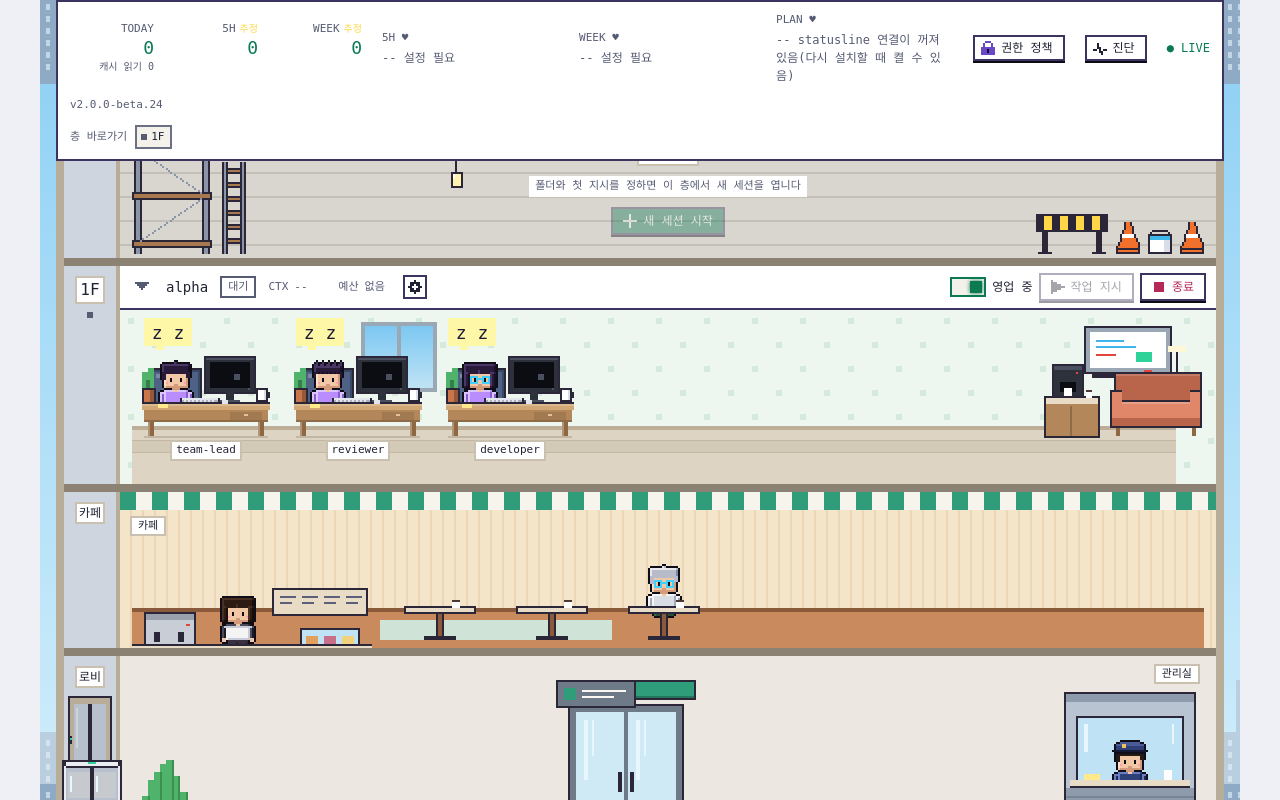
Test case: 에이전트 패널 열기 › 결정이 없는 캐릭터를 누르면 에이전트 패널이 열린다
This screenshot has width=1280, height=800.
(page scrolled)
Click the button with test id "desk-reviewer" at point(358, 401), box [292,318,424,484]
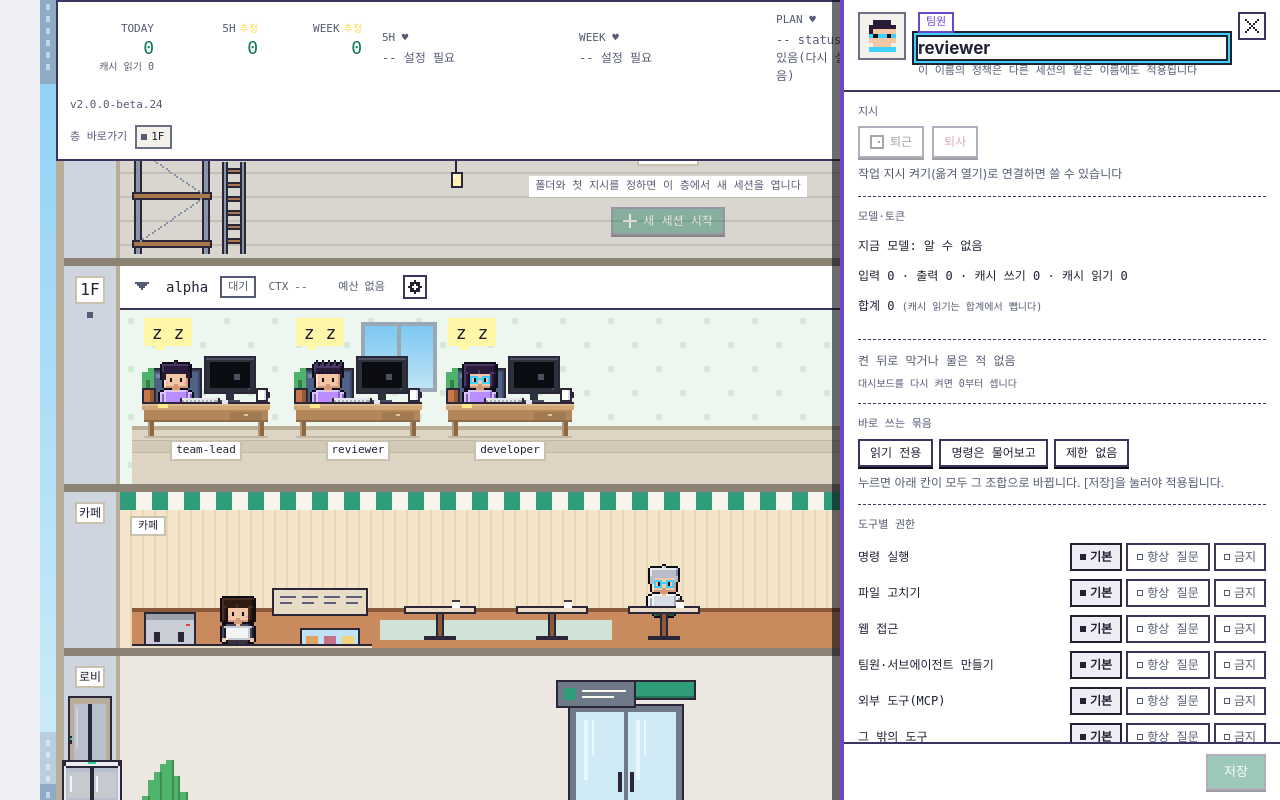
Expected: the heading "reviewer" is shown, [918,36,1226,59]
Expected: the dialog named "." shows "팀원", [926,15,946,28]
Expected: the dialog named "." shows "이 이름의 정책은 다른 세션의 같은 이름에도 적용됩니다", [918,64,1197,77]
